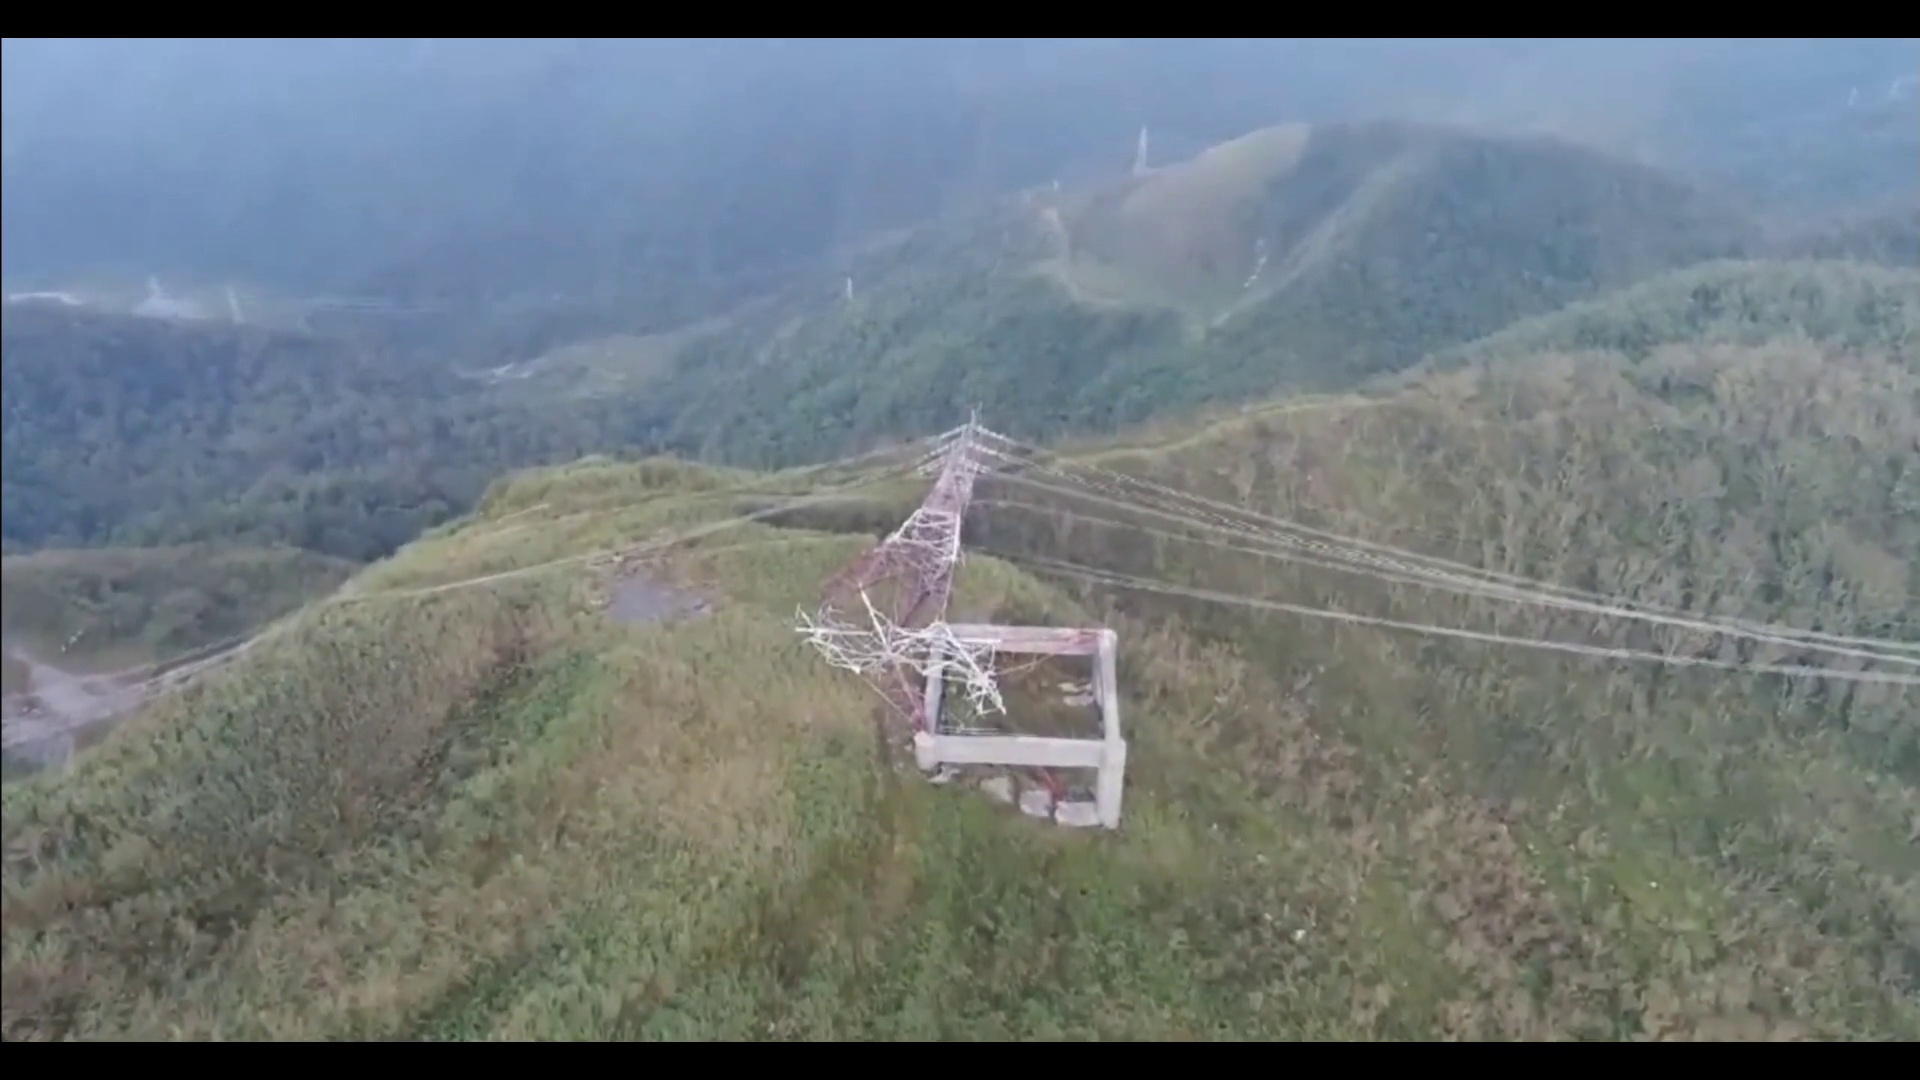tower_down: (789, 371, 1027, 683)
